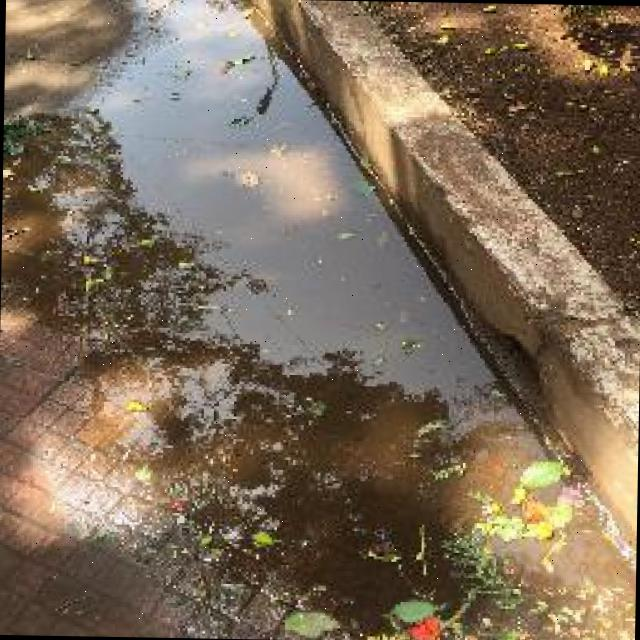stagnation: (0, 0, 533, 545)
